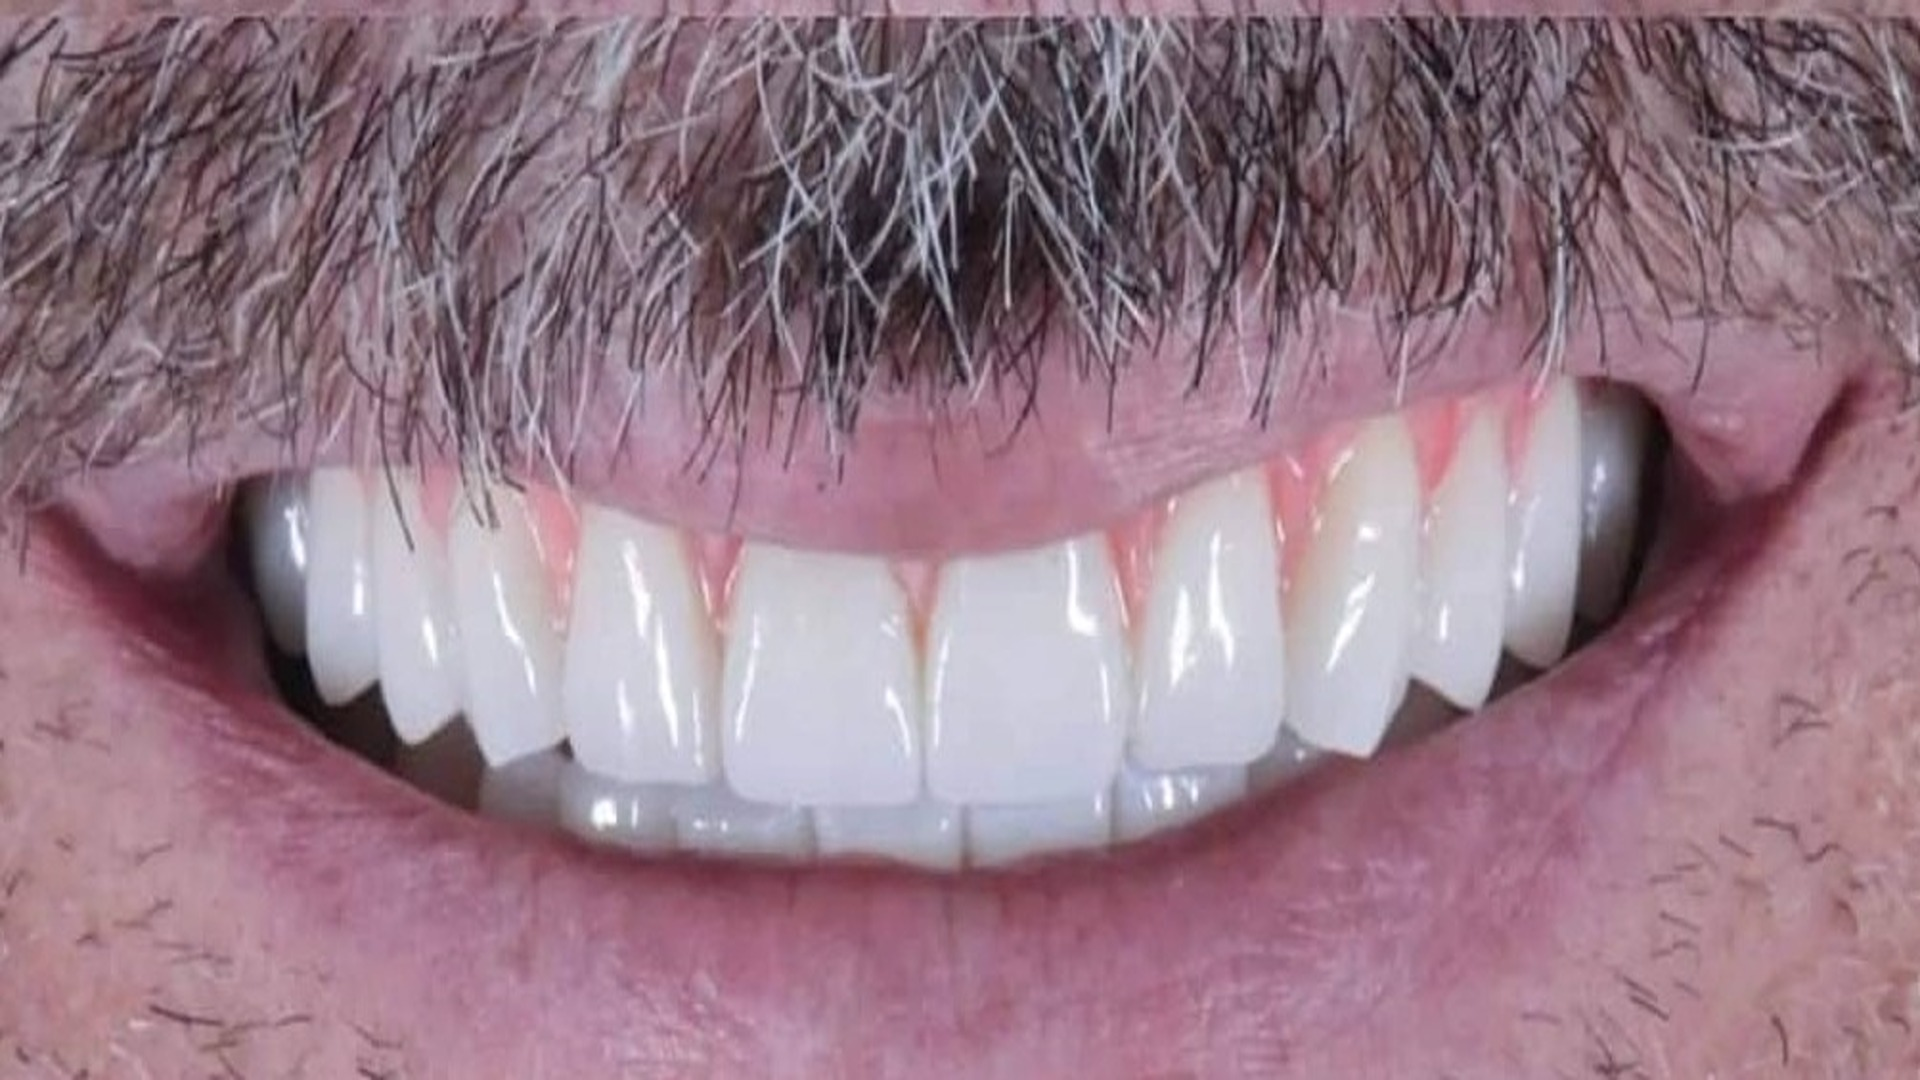tooth: (924, 531, 1133, 803), (721, 542, 922, 808), (1127, 469, 1284, 771), (1284, 415, 1422, 758), (560, 502, 723, 783), (448, 483, 567, 766), (1411, 407, 1511, 711), (373, 471, 464, 745), (1505, 378, 1582, 669), (306, 465, 378, 705)
